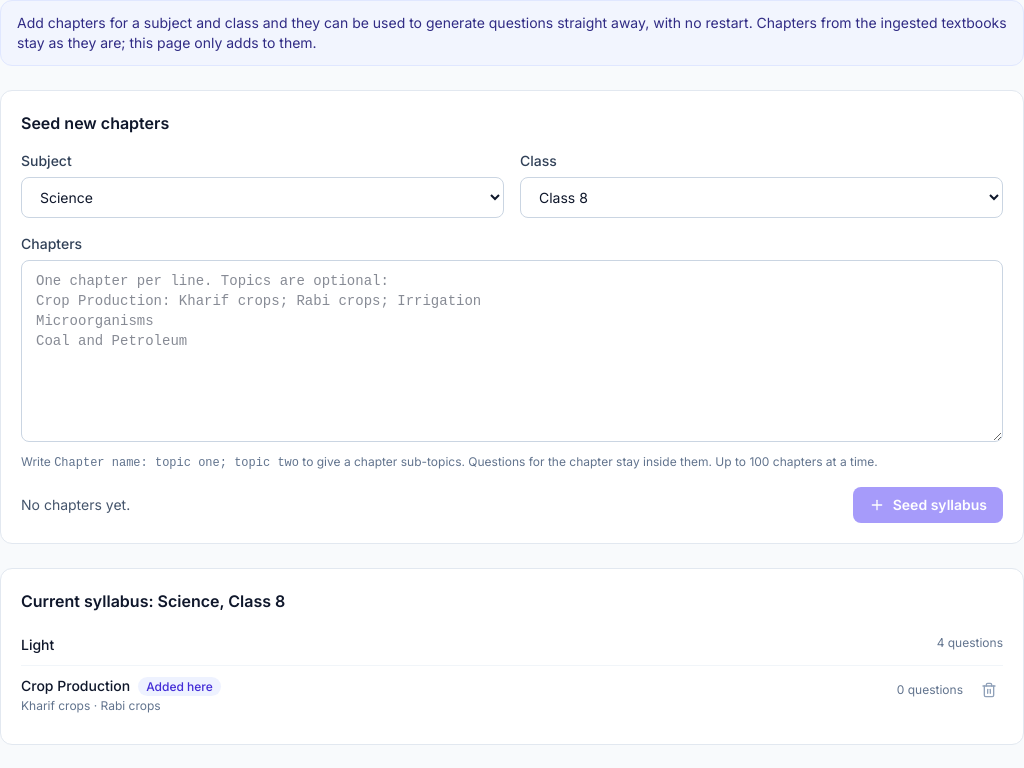
Scenario: SyllabusPage › shows the server warning when no syllabus was loaded before
Click the text box labelled "Chapters" at (512, 351), box [21,260,1003,442]
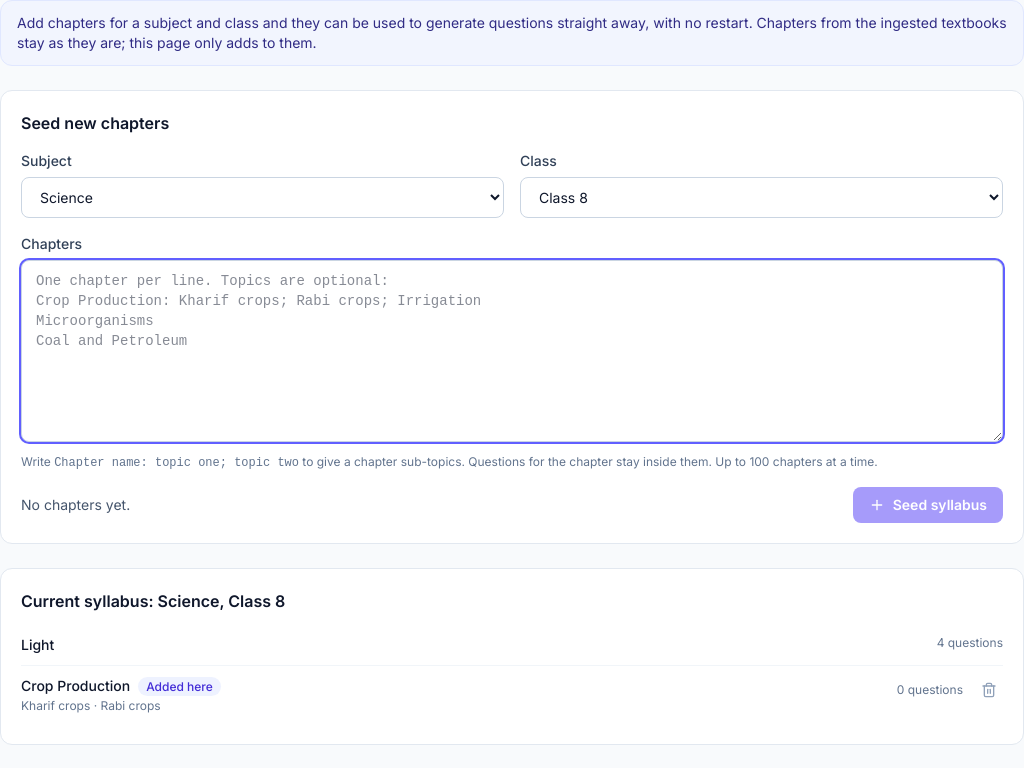
Type keys "Microorganisms"
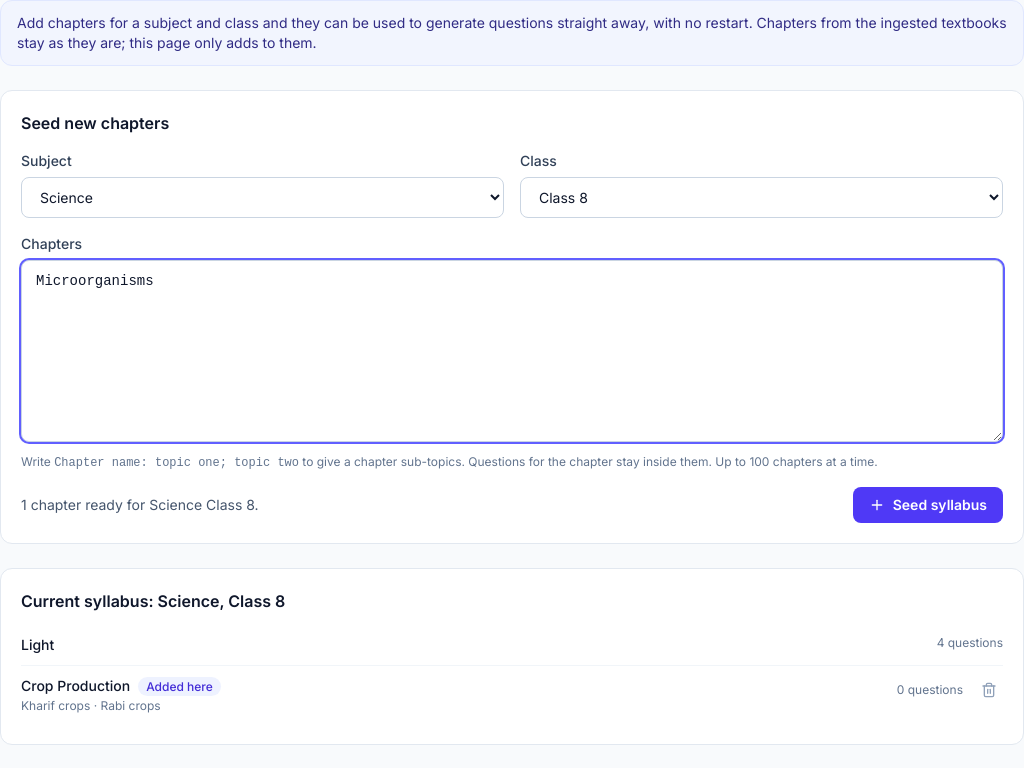
Click the button "Seed syllabus" at (928, 505), box [853,487,1003,523]
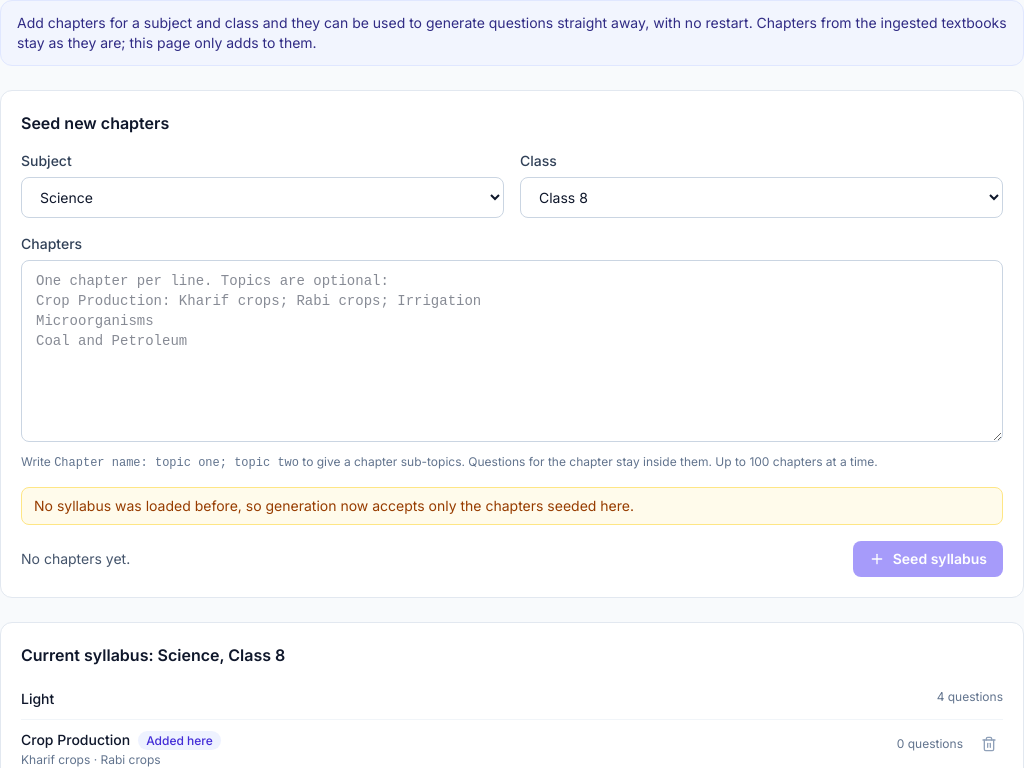
Check: the text "generation now accepts only the chapters seeded here" is shown, box [34,497,634,514]
